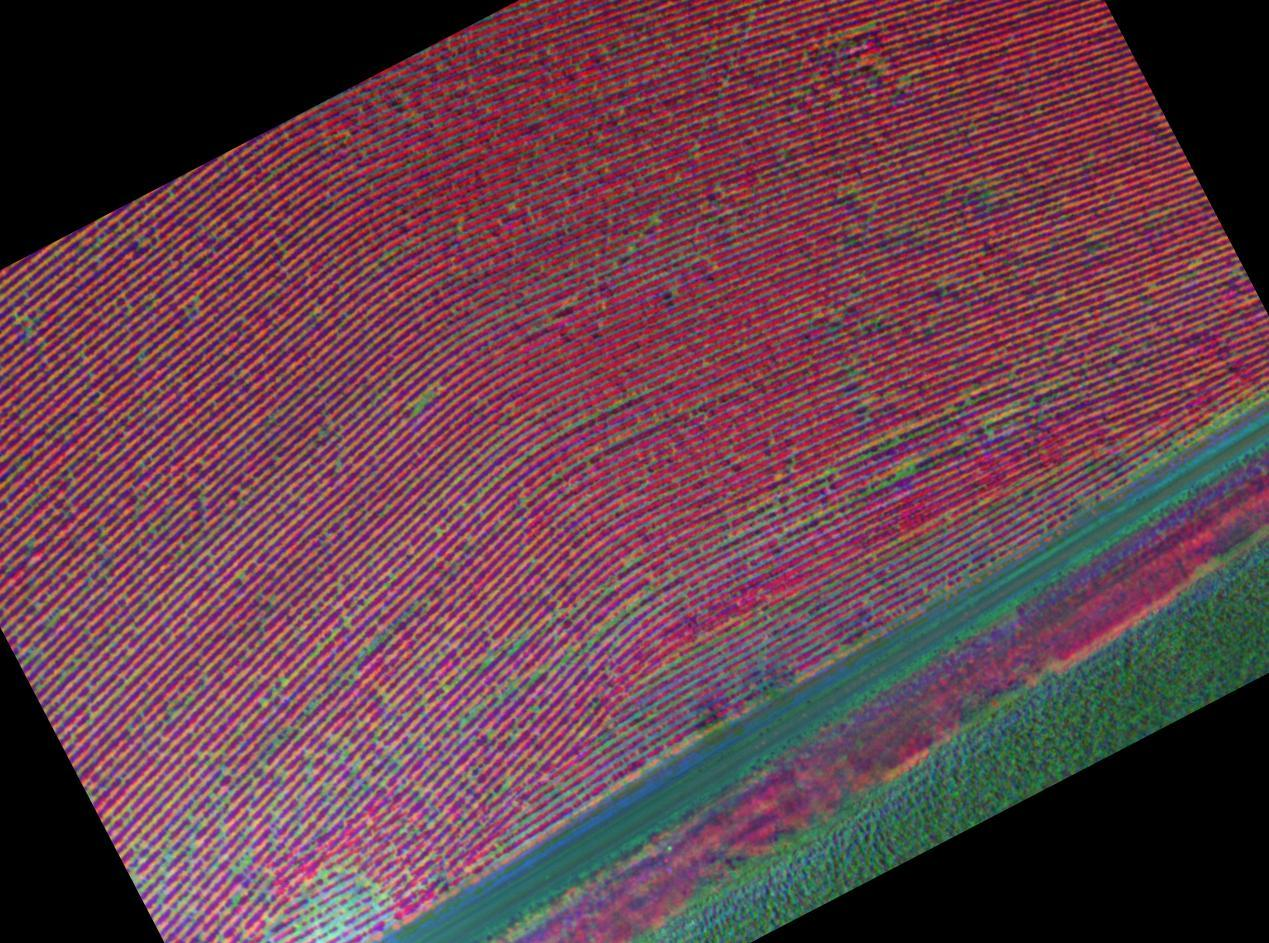dc: (898, 472, 904, 478), (630, 245, 634, 250), (202, 499, 206, 503), (150, 527, 154, 531), (1196, 261, 1199, 265), (194, 297, 198, 300)
